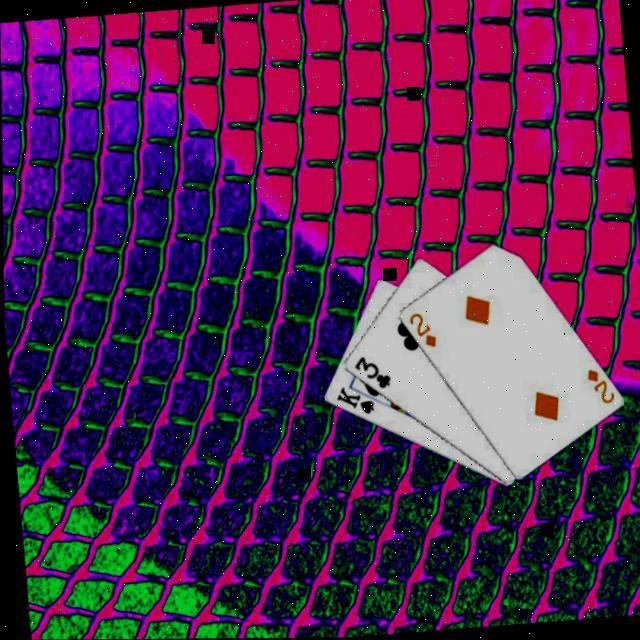2D: (402, 309, 438, 352), (580, 366, 616, 409)
3C: (348, 353, 391, 394)
KS: (330, 384, 374, 421)
